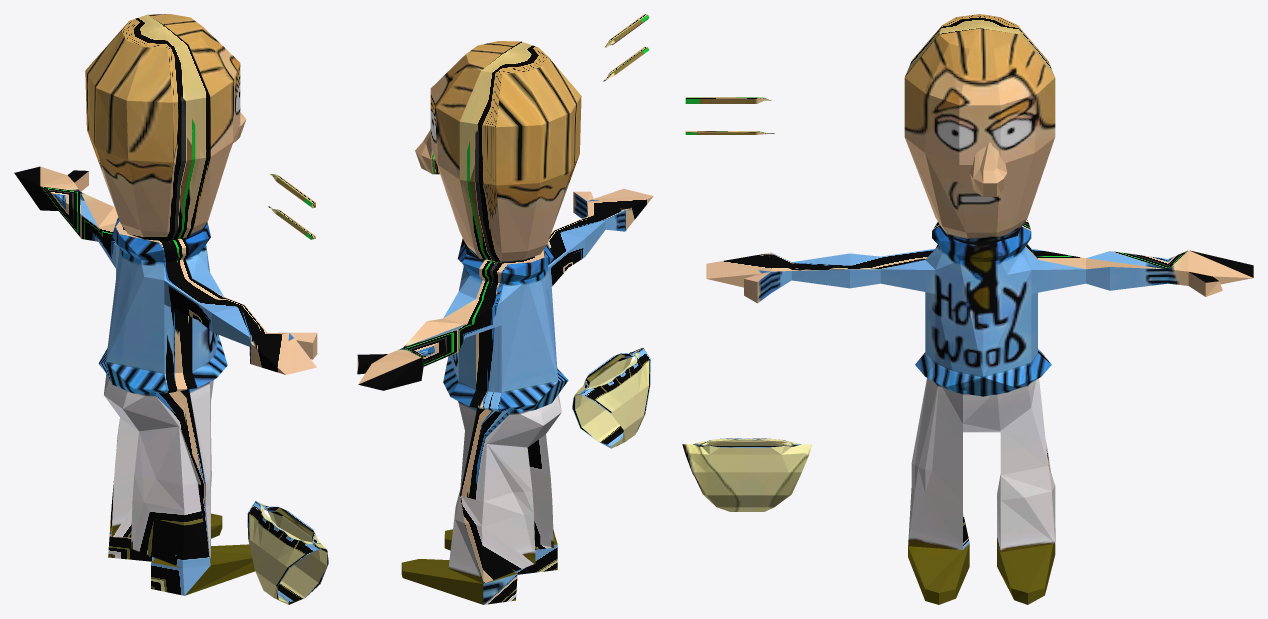
Rendered from PipMAD.glb.
The picture shows the model from 3 angles, left to right: view 1: azimuth 30°, elevation 25°; view 2: azimuth 150°, elevation 25°; view 3: azimuth 270°, elevation 25°; orthographic projection. The views are drawn at different scales.
Visible parts, largest first — view 1: PipMAD; view 2: PipMAD; view 3: PipMAD.
Boxes of the visible parts, x1,y1,x2,y2 form: PipMAD: (14, 14, 328, 604); PipMAD: (357, 14, 653, 604); PipMAD: (682, 14, 1253, 604).
Size of the model in its own units: 33.94 by 116 by 111.
Materials: 1 (1 with a texture image).
